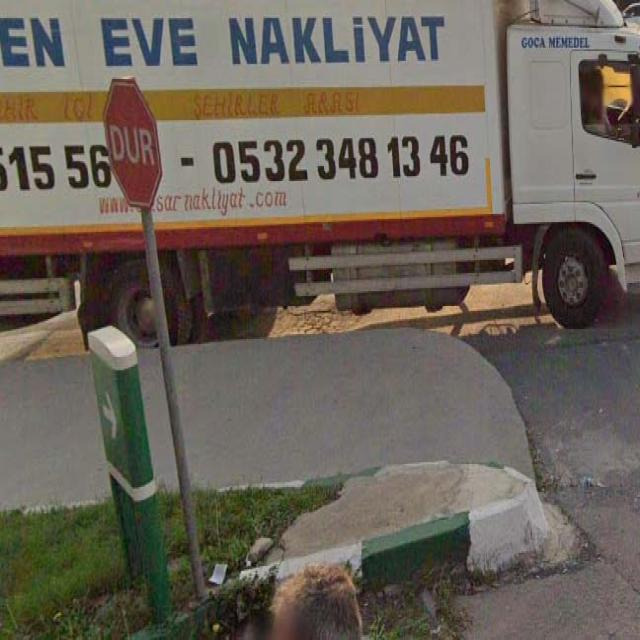dur: (104, 77, 164, 209)
